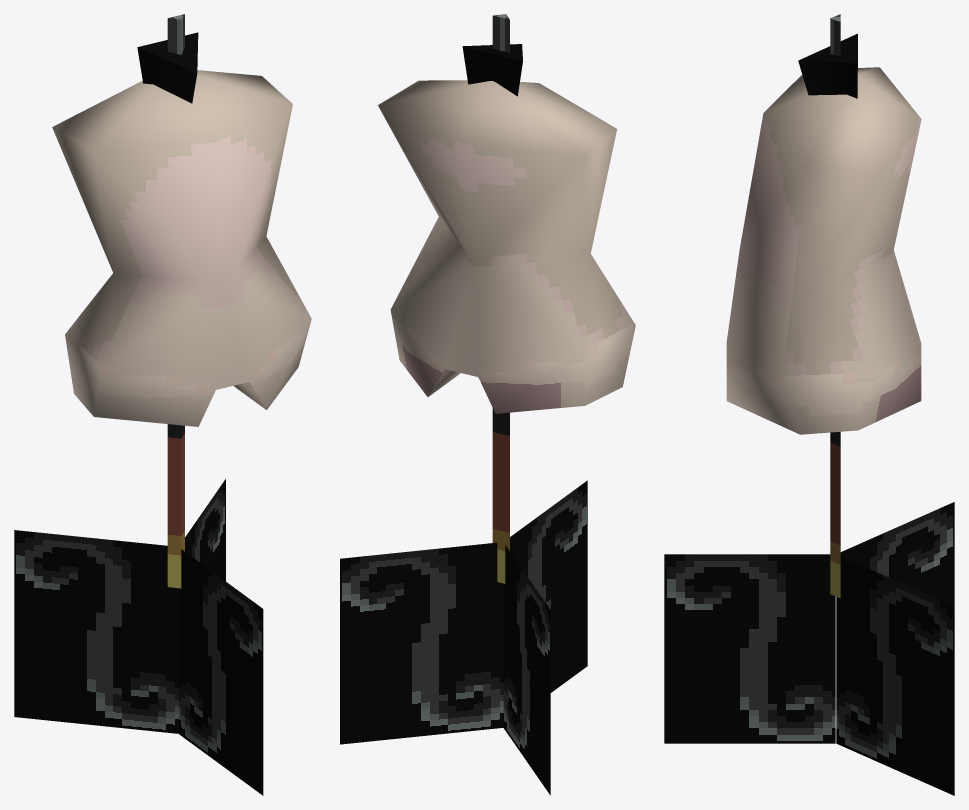
The picture shows the model from 3 angles, left to right: view 1: azimuth 30°, elevation 25°; view 2: azimuth 150°, elevation 25°; view 3: azimuth 270°, elevation 25°; orthographic projection.
Visible parts, largest first — view 1: 3886kg3_shp03; view 2: 3886kg3_shp03; view 3: 3886kg3_shp03.
Boxes of the visible parts, x1=… form: 3886kg3_shp03: x1=14, y1=14, x2=311, y2=795; 3886kg3_shp03: x1=340, y1=14, x2=635, y2=795; 3886kg3_shp03: x1=664, y1=14, x2=954, y2=795.
Bounding box in the file's own units: 0.5449 × 1.76 × 0.6377.
2 materials, 2 textured.
